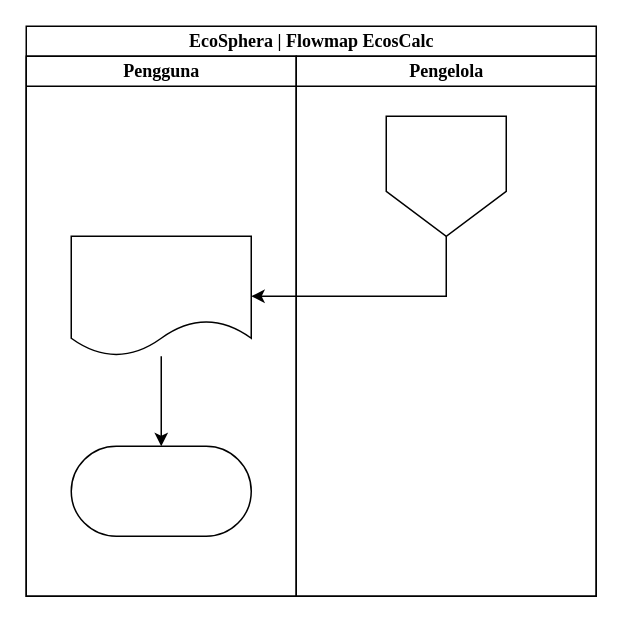
Image size: 623x623. Some labels were removed from this diagram. The shapes that lost their labels are listed below. From the top down, each one's centre as x and y in pixels, then its label:
At [160,295]: "Uang sesuai nilai tukar".
At [160,490]: "Selesai".
